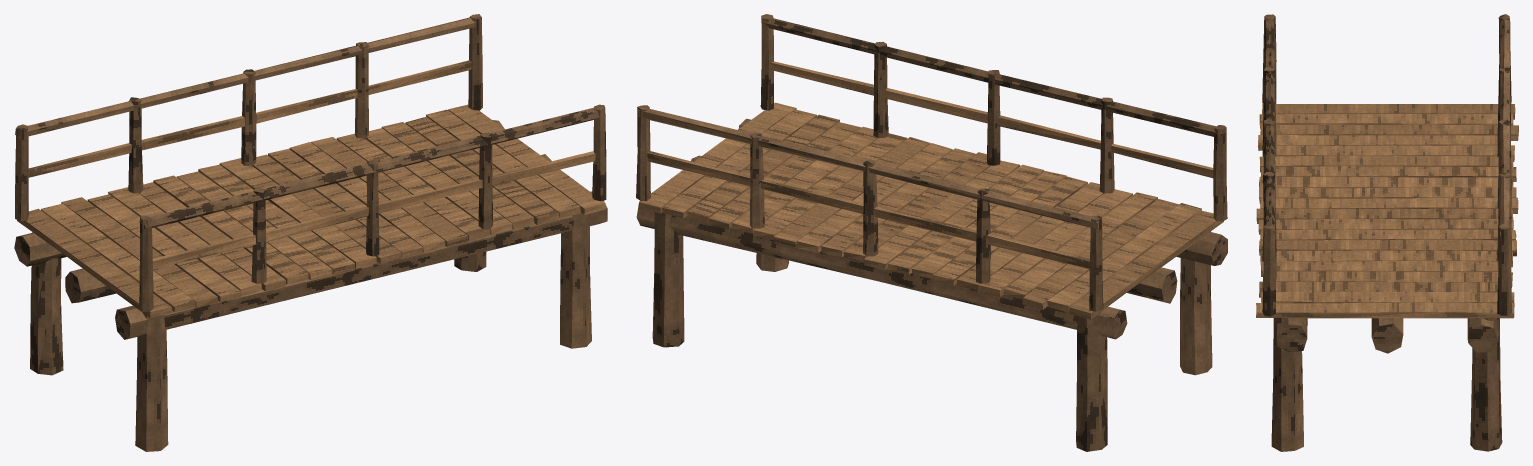
Rendered from ponte_p.glb.
The picture shows the model from 3 angles, left to right: view 1: azimuth 30°, elevation 25°; view 2: azimuth 150°, elevation 25°; view 3: azimuth 270°, elevation 25°; orthographic projection. The views are drawn at different scales.
Parts seen in each view (by area): view 1: ponte_p_madeira, ponte_p_tronco; view 2: ponte_p_madeira, ponte_p_tronco; view 3: ponte_p_madeira, ponte_p_tronco.
Part boxes in pixels (<box>): ponte_p_madeira: <box>17,60,605,317</box>; ponte_p_tronco: <box>14,14,607,451</box>; ponte_p_madeira: <box>639,61,1223,319</box>; ponte_p_tronco: <box>636,14,1227,451</box>; ponte_p_madeira: <box>1256,104,1518,318</box>; ponte_p_tronco: <box>1262,14,1512,451</box>.
Bounding box in the file's own units: 6.32 × 3.02 × 3.17.
2 materials, 2 textured.
